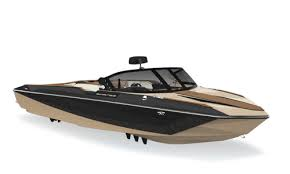boat: (11, 56, 269, 146)
